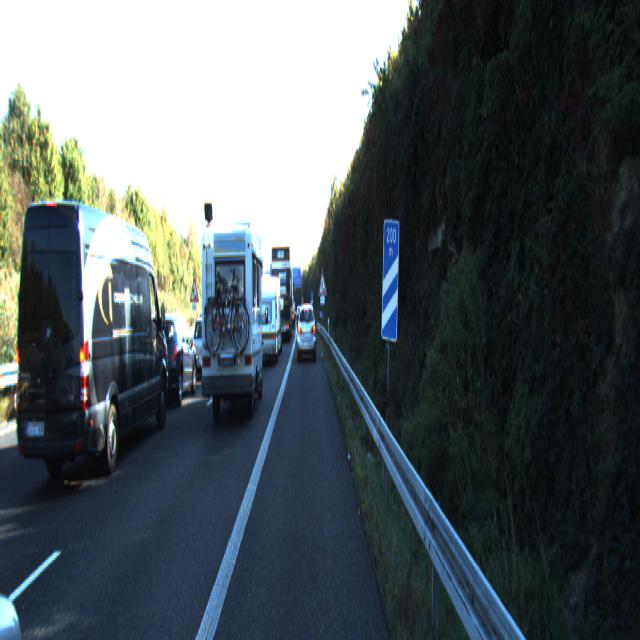Car: (16, 195, 169, 499), (200, 226, 266, 427), (144, 311, 198, 406), (252, 272, 281, 366), (272, 242, 292, 338), (297, 301, 316, 361)
